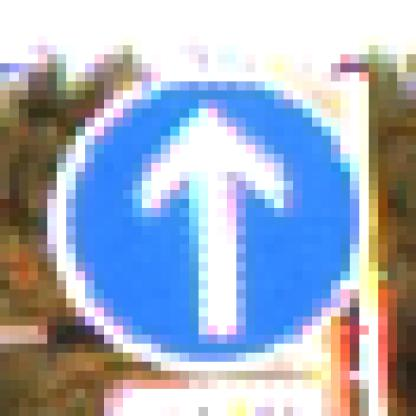AheadOnly: (48, 55, 370, 363)
